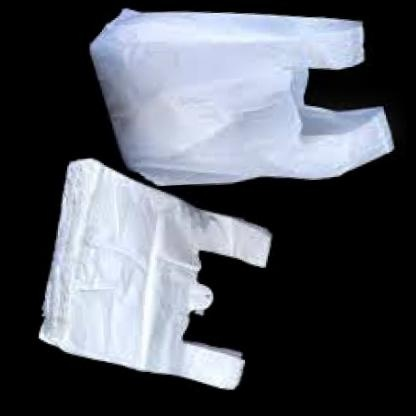trash: (90, 9, 392, 184), (40, 159, 270, 388)
